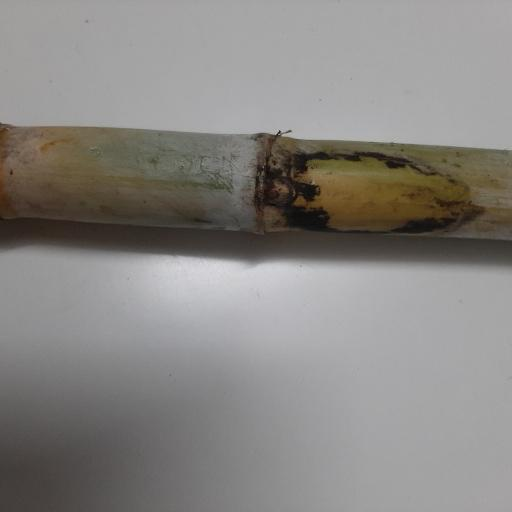Bud: (261, 175, 297, 205)
